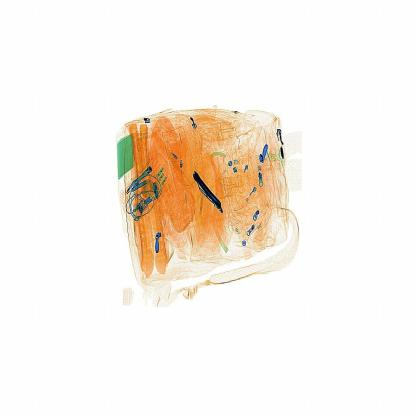knife: (192, 170, 225, 210)
